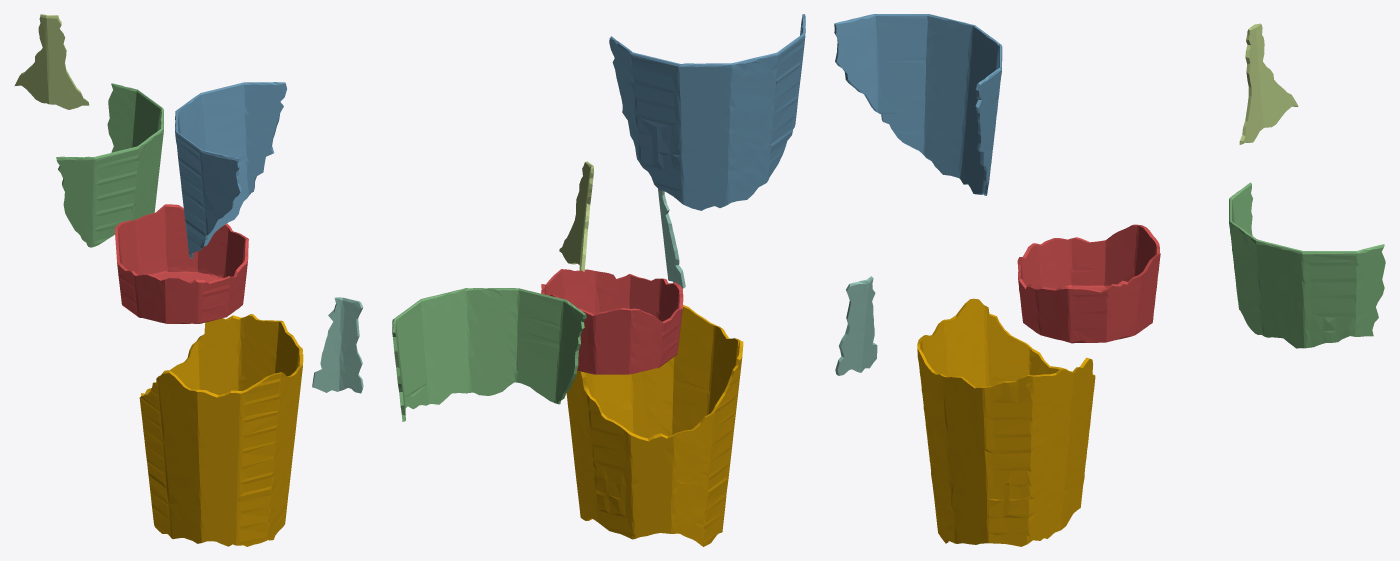
File: fractured_66_6pcs_transformed.glb
The picture shows the model from 3 angles, left to right: view 1: azimuth 30°, elevation 25°; view 2: azimuth 150°, elevation 25°; view 3: azimuth 270°, elevation 25°; orthographic projection. The views are drawn at different scales.
Visible parts, largest first — view 1: piece_0.obj, piece_2.obj, piece_1.obj, piece_3.obj, piece_4.obj, piece_5.obj; view 2: piece_0.obj, piece_2.obj, piece_3.obj, piece_1.obj, piece_5.obj, piece_4.obj; view 3: piece_0.obj, piece_2.obj, piece_3.obj, piece_1.obj, piece_5.obj, piece_4.obj.
Boxes of the visible parts, box(x1,y1,x2,y2) form: piece_0.obj: box(139, 314, 303, 546); piece_2.obj: box(175, 82, 286, 258); piece_1.obj: box(115, 204, 248, 323); piece_3.obj: box(56, 83, 163, 247); piece_4.obj: box(312, 297, 363, 393); piece_5.obj: box(14, 14, 89, 109); piece_0.obj: box(566, 305, 743, 546); piece_2.obj: box(609, 14, 805, 210); piece_3.obj: box(392, 288, 586, 421); piece_1.obj: box(541, 269, 683, 374); piece_5.obj: box(559, 161, 593, 271); piece_4.obj: box(658, 189, 685, 288); piece_0.obj: box(917, 298, 1095, 546); piece_2.obj: box(834, 14, 1002, 195); piece_3.obj: box(1229, 182, 1385, 348); piece_1.obj: box(1017, 224, 1160, 343); piece_5.obj: box(1239, 23, 1298, 144); piece_4.obj: box(835, 276, 877, 375).
Bounding box in the file's own units: 0.5675 × 1.48 × 1.55.
